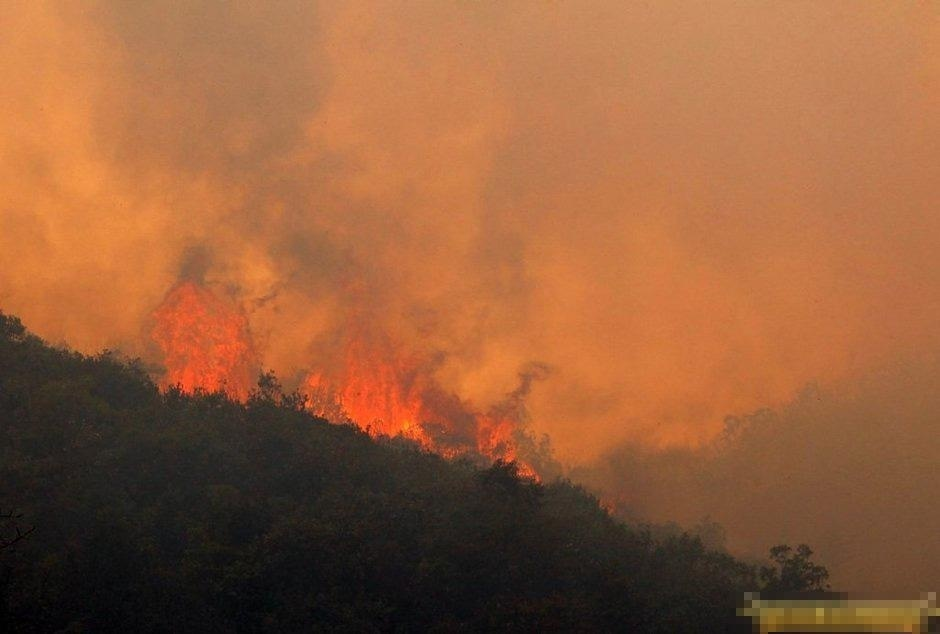fire: (307, 328, 558, 492)
